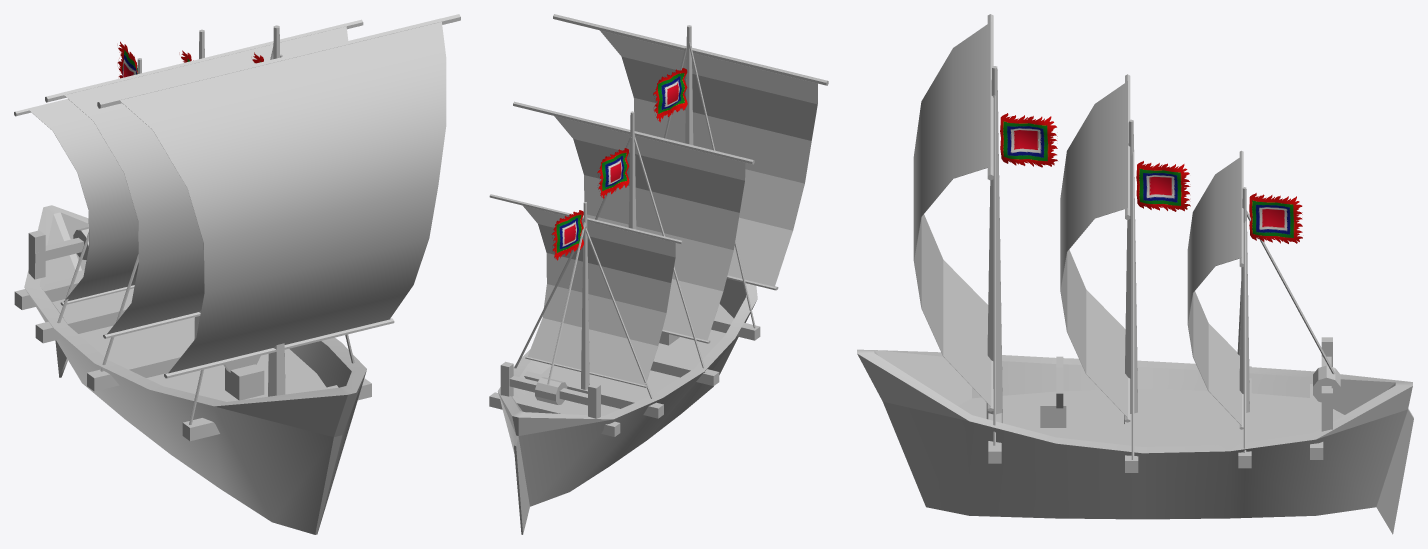
Rendered from taucovn 2.fbx.
3 renders of one model, left to right at view 1: azimuth 30°, elevation 25°; view 2: azimuth 150°, elevation 25°; view 3: azimuth 270°, elevation 25°, orthographic. The views are drawn at different scales.
Visible parts, largest first — view 1: thuyenvietnam:polySurface1; view 2: thuyenvietnam:polySurface1, pCube4, pCube3, pCube2; view 3: thuyenvietnam:polySurface1, pCube4, pCube3, pCube2.
Part boxes in pixels (left/top/right/bottom): thuyenvietnam:polySurface1: left=14, top=14, right=460, bottom=534; thuyenvietnam:polySurface1: left=489, top=14, right=828, bottom=534; pCube4: left=653, top=68, right=687, bottom=122; pCube3: left=597, top=148, right=629, bottom=198; pCube2: left=551, top=210, right=583, bottom=260; thuyenvietnam:polySurface1: left=857, top=14, right=1413, bottom=534; pCube4: left=1000, top=113, right=1057, bottom=167; pCube3: left=1136, top=161, right=1190, bottom=211; pCube2: left=1249, top=193, right=1302, bottom=243.
Size of the model in its own units: 14.57 by 19.75 by 21.37.
